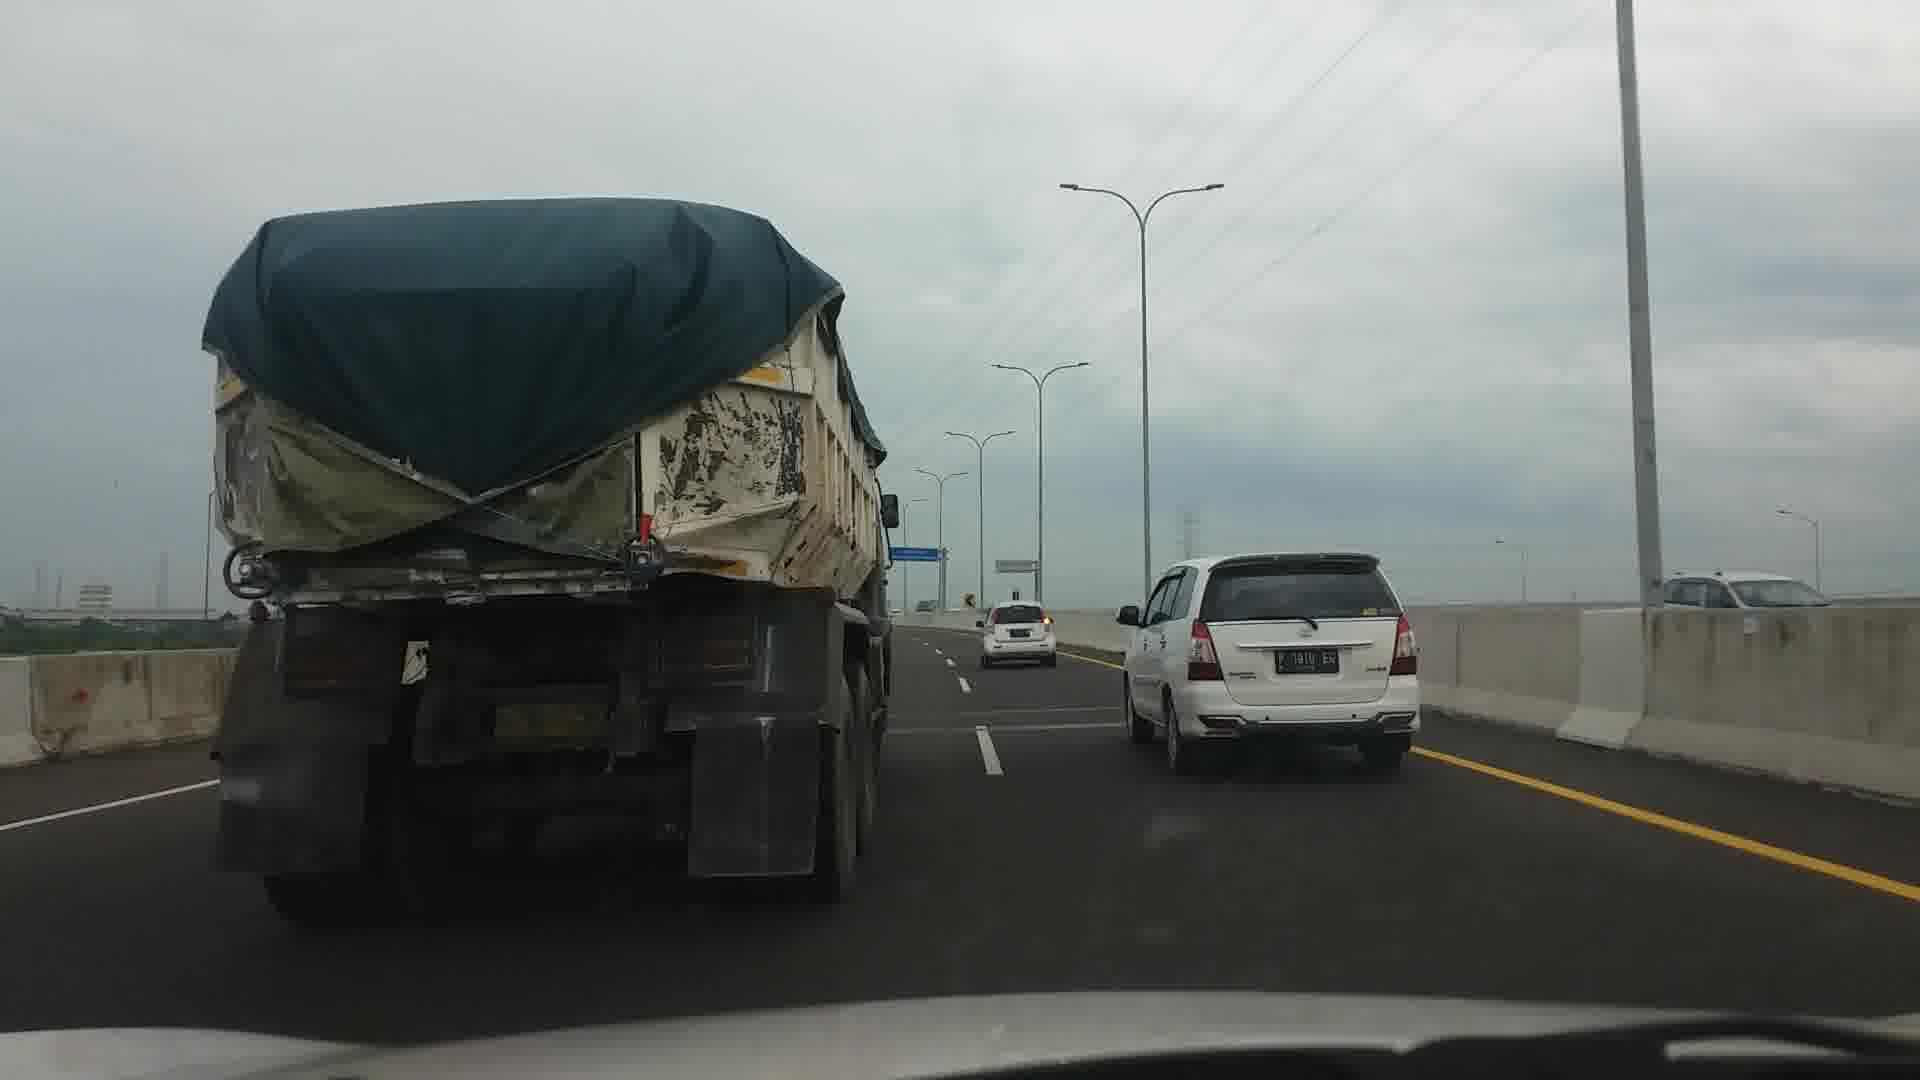plate_positive: (1275, 649, 1338, 673), (1010, 629, 1031, 637)
